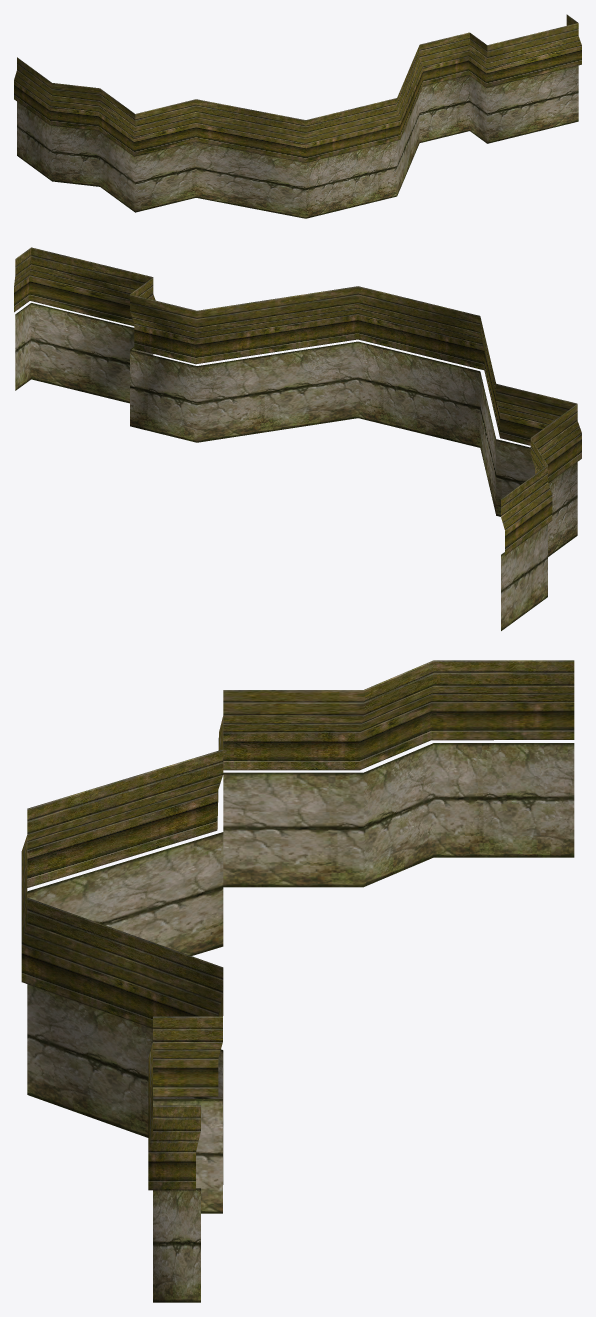
File: OVERHILL_A_01_OBJECT69.fbx
The picture shows the model from 3 angles, top to bottom: view 1: azimuth 30°, elevation 25°; view 2: azimuth 150°, elevation 25°; view 3: azimuth 270°, elevation 25°; orthographic projection. The views are drawn at different scales.
Visible parts, largest first — view 1: OVERHILL_A_01_OBJECT69; view 2: OVERHILL_A_01_OBJECT69; view 3: OVERHILL_A_01_OBJECT69.
Boxes of the visible parts, x1,y1,x2,y2 form: OVERHILL_A_01_OBJECT69: (14,14,581,218); OVERHILL_A_01_OBJECT69: (14,247,581,630); OVERHILL_A_01_OBJECT69: (21,660,574,1302).
Bounding box in the file's own units: 151730 × 31000 × 78723.
3 materials, 3 textured.
